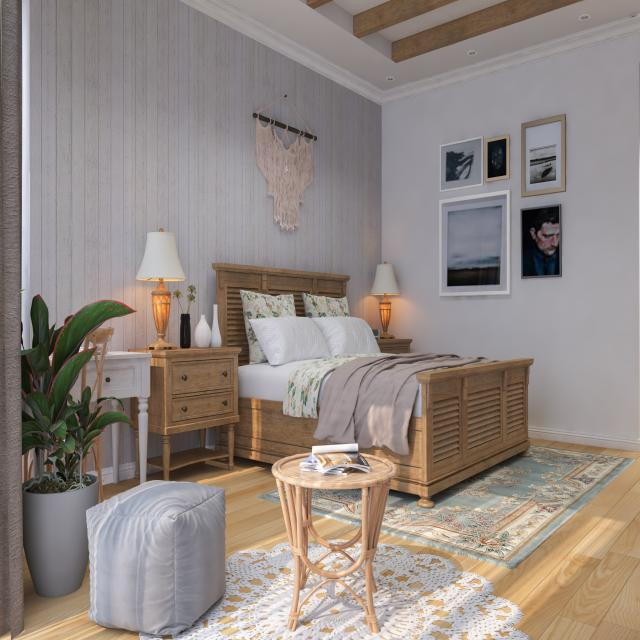floor: (378, 437, 640, 640), (169, 455, 289, 565), (12, 545, 140, 640), (311, 513, 361, 540), (102, 477, 141, 501), (307, 526, 319, 545), (146, 471, 164, 482), (0, 629, 11, 640), (357, 536, 362, 543)
wall: (30, 0, 382, 351), (381, 32, 640, 451), (518, 114, 566, 279), (439, 189, 511, 296), (439, 136, 484, 192), (118, 423, 136, 481), (99, 425, 113, 486), (169, 430, 200, 454), (147, 432, 163, 459), (205, 426, 216, 450), (120, 398, 131, 419), (86, 449, 95, 472), (29, 313, 34, 348), (101, 400, 113, 414)
